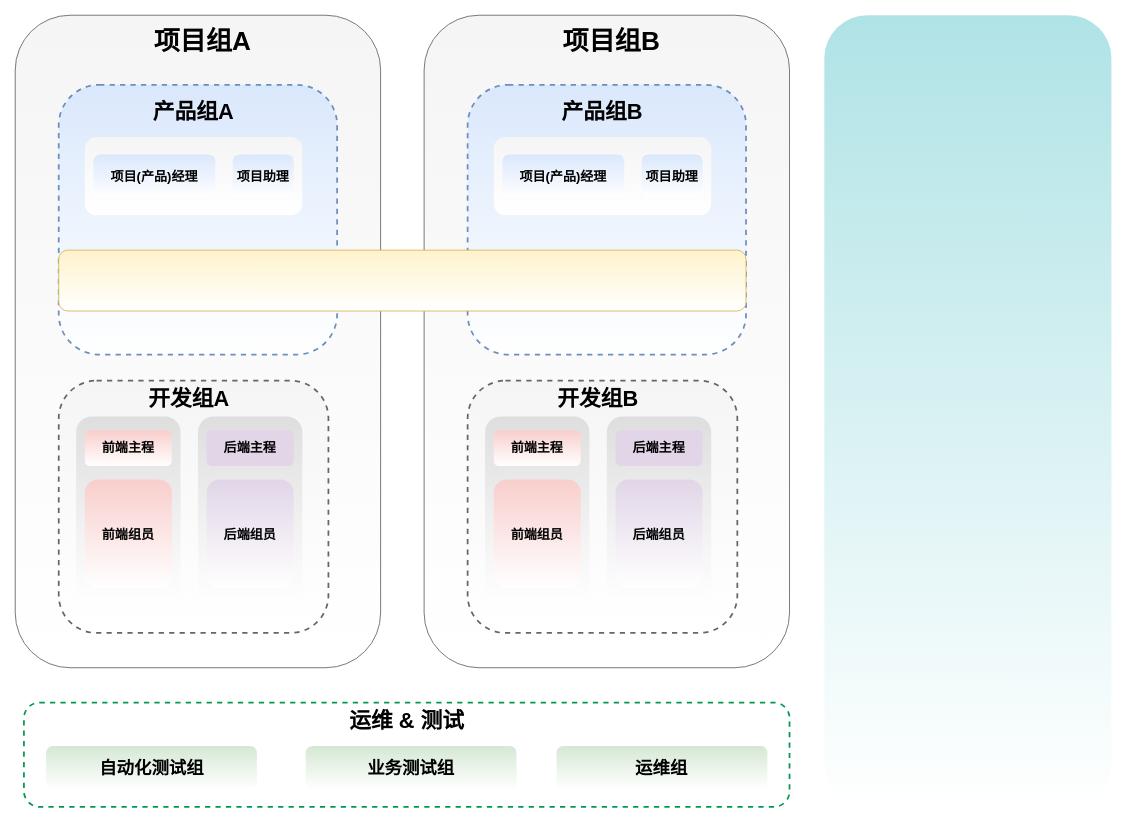
Some shapes in this 1127 by 823 pixel diagram are drawn without their labels. Here are the shapes that lost their labels. From the top down, the centre of each, then its label:
At point 402,280: "U I 组".
At point 967,410: "技 术 平 台 团 队".
